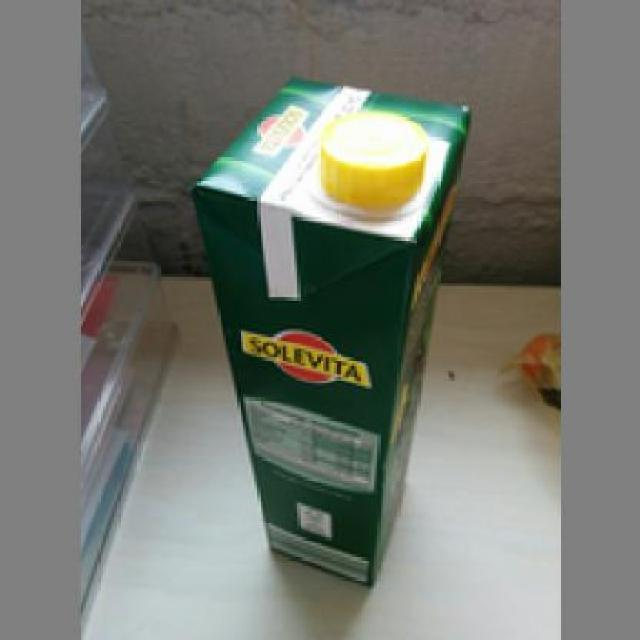Juice: (186, 71, 474, 588)
